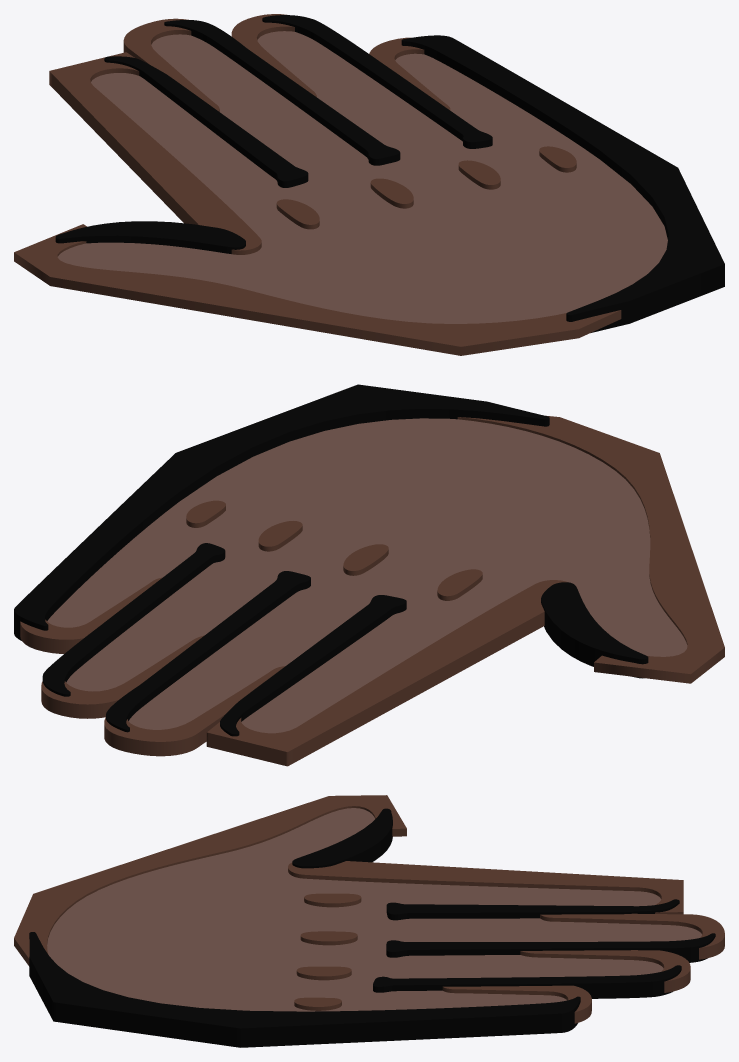
File: emoji_u1f91a_1f3ff.glb
The picture shows the model from 3 angles, top to bottom: view 1: azimuth 30°, elevation 25°; view 2: azimuth 150°, elevation 25°; view 3: azimuth 270°, elevation 25°; orthographic projection. The views are drawn at different scales.
Parts seen in each view (by area): view 1: emoji_u1f91a_1f3ff; view 2: emoji_u1f91a_1f3ff; view 3: emoji_u1f91a_1f3ff.
Part boxes in pixels (box(x1,y1,x2,y2)): emoji_u1f91a_1f3ff: box(14, 14, 724, 355); emoji_u1f91a_1f3ff: box(14, 384, 724, 766); emoji_u1f91a_1f3ff: box(14, 795, 724, 1047).
Size of the model in its own units: 0.0266 by 0.001 by 0.0334.
